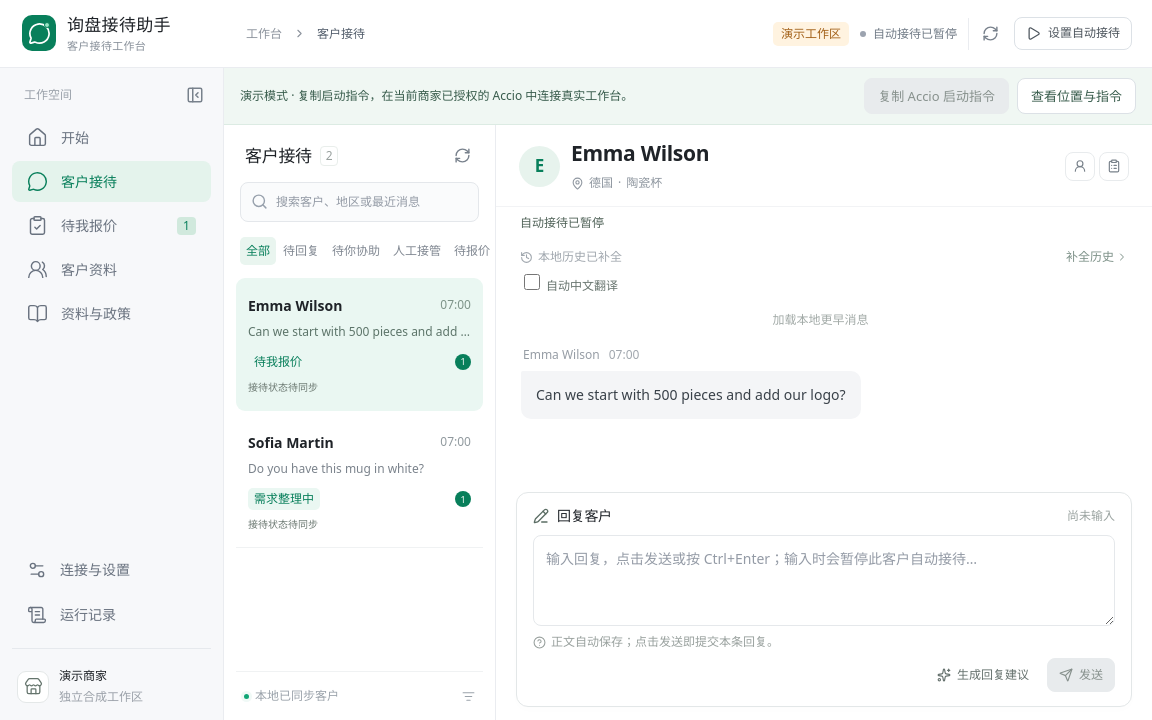
Test: truthful reception and registration copy › drops cached legacy handoff cards once their conversation leaves the current queue
The width and height of the screenshot is (1152, 720).
Later steps or results of the test are not shown.
Expected: the text box named "回复正文" is shown, [533,535,1115,626]
Click the button "待我报价 1". click: [112, 226]
box: [12,205,211,246]
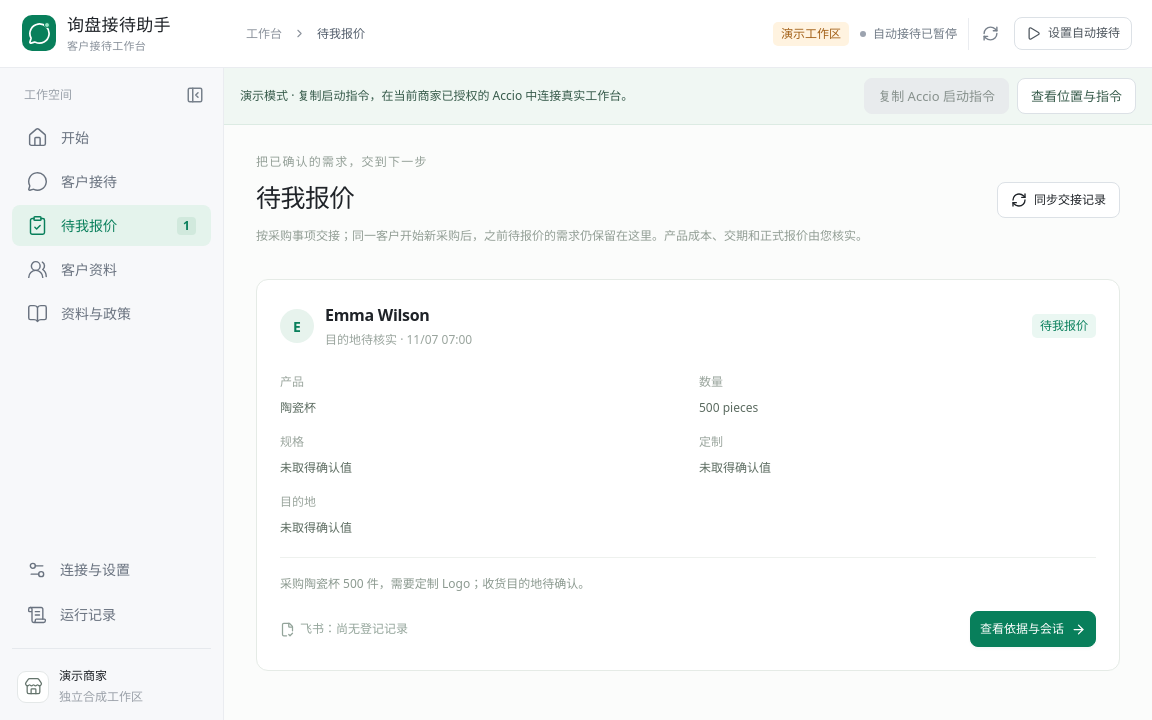
Now the number of elements with class "handoff-card" is 1, box [256,279,1120,671]
